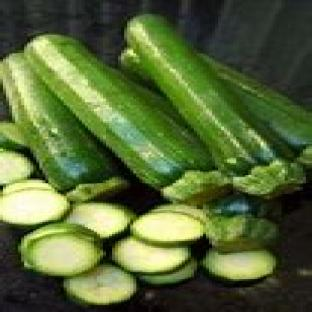Zucchini: (28, 35, 230, 202), (128, 14, 305, 197), (0, 53, 118, 190), (200, 54, 311, 166), (19, 224, 102, 275), (64, 264, 136, 305), (113, 236, 190, 273), (206, 215, 278, 253), (64, 202, 136, 239), (131, 212, 205, 246), (0, 189, 69, 225), (203, 250, 275, 282), (203, 193, 281, 218), (67, 177, 130, 202), (137, 259, 196, 284), (0, 150, 36, 185), (119, 47, 151, 83), (152, 203, 205, 223), (4, 179, 54, 195), (0, 122, 27, 150)
